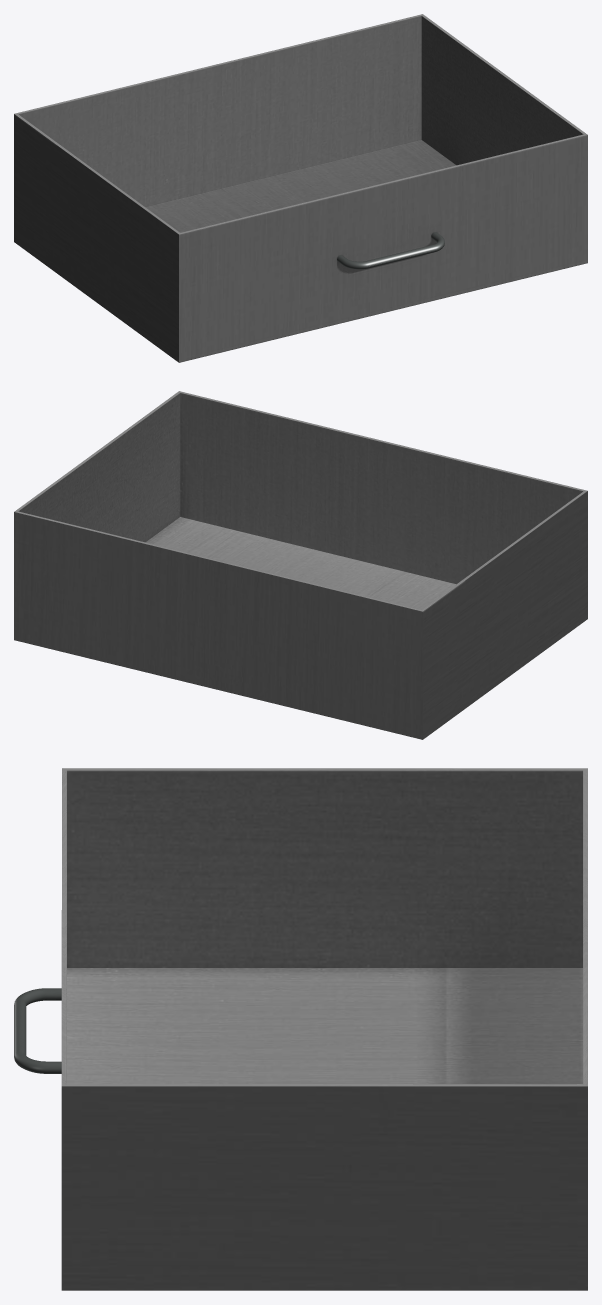
Rendered from drawer_d.gltf.
3 views of the same model, one above another, from view 1: azimuth 30°, elevation 25°; view 2: azimuth 150°, elevation 25°; view 3: azimuth 270°, elevation 25° (orthographic). The views are drawn at different scales.
Parts seen in each view (by area): view 1: drawer_d, handle_d; view 2: drawer_d; view 3: drawer_d, handle_d.
Part boxes in pixels (<box>): drawer_d: <box>14,14,587,362</box>; handle_d: <box>337,232,444,269</box>; drawer_d: <box>14,391,587,739</box>; drawer_d: <box>61,768,587,1290</box>; handle_d: <box>14,988,61,1073</box>.
Bounding box in the file's own units: 2.53 × 0.7592 × 1.93.
Materials: 2 (2 with a texture image).
